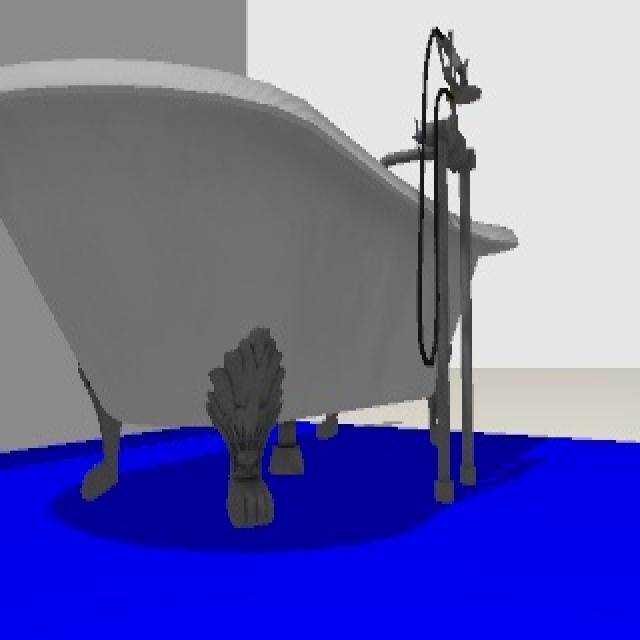bathtub: (0, 19, 525, 550)
